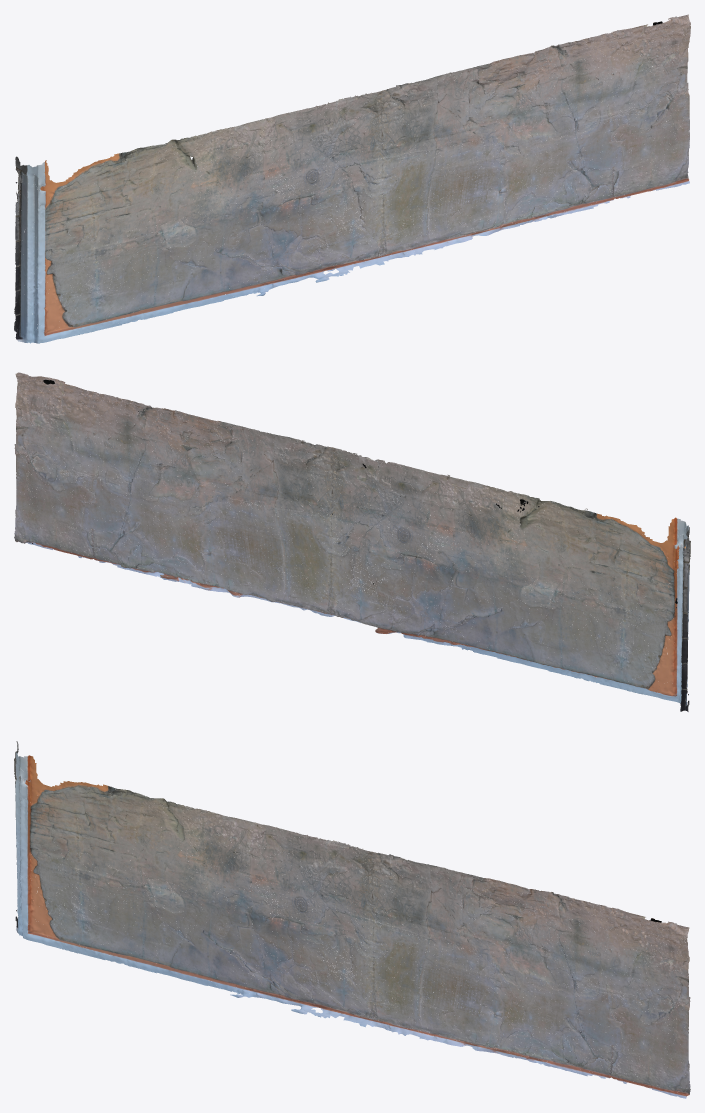
File: cheonjeon.glb
3 views of the same model, one above another, from view 1: azimuth 30°, elevation 25°; view 2: azimuth 150°, elevation 25°; view 3: azimuth 330°, elevation 25° (orthographic).
Visible parts, largest first — view 1: Object_6, Object_8, Object_13, Object_4, Object_10, Object_2, Object_15, Object_17, Object_3, Object_5, Object_11, Object_14 (+4 smaller); view 2: Object_6, Object_8, Object_13, Object_2, Object_4, Object_10, Object_15, Object_17, Object_5, Object_3, Object_14, Object_11 (+4 smaller); view 3: Object_6, Object_8, Object_13, Object_4, Object_2, Object_10, Object_15, Object_17, Object_3, Object_5, Object_14, Object_11 (+4 smaller).
Part boxes in pixels (bbox=[...]): Object_6: bbox=[192, 39, 664, 266]; Object_8: bbox=[357, 30, 689, 230]; Object_13: bbox=[271, 33, 689, 217]; Object_4: bbox=[216, 14, 690, 257]; Object_10: bbox=[266, 39, 677, 243]; Object_2: bbox=[441, 47, 688, 221]; Object_15: bbox=[132, 21, 675, 268]; Object_17: bbox=[69, 37, 679, 296]; Object_3: bbox=[17, 24, 688, 325]; Object_5: bbox=[15, 14, 690, 297]; Object_11: bbox=[15, 36, 677, 324]; Object_14: bbox=[37, 16, 689, 337]; Object_6: bbox=[43, 398, 526, 620]; Object_8: bbox=[16, 390, 357, 590]; Object_13: bbox=[15, 393, 445, 577]; Object_2: bbox=[14, 407, 270, 581]; Object_4: bbox=[15, 372, 499, 614]; Object_10: bbox=[26, 399, 450, 603]; Object_15: bbox=[33, 376, 588, 628]; Object_17: bbox=[27, 394, 650, 657]; Object_5: bbox=[14, 373, 688, 654]; Object_3: bbox=[15, 382, 690, 684]; Object_14: bbox=[16, 373, 683, 696]; Object_11: bbox=[26, 401, 689, 695]; Object_6: bbox=[178, 827, 661, 1084]; Object_8: bbox=[347, 845, 689, 1086]; Object_13: bbox=[259, 838, 689, 1074]; Object_4: bbox=[205, 810, 689, 1052]; Object_2: bbox=[434, 866, 690, 1063]; Object_10: bbox=[254, 879, 678, 1076]; Object_15: bbox=[116, 830, 671, 995]; Object_17: bbox=[54, 796, 677, 1072]; Object_3: bbox=[14, 758, 689, 1062]; Object_5: bbox=[18, 755, 690, 1095]; Object_14: bbox=[18, 778, 688, 1072]; Object_11: bbox=[15, 741, 678, 1075].
Bounding box in the file's own units: 10.46 × 2.78 × 0.4836.
8 materials, 8 textured.
